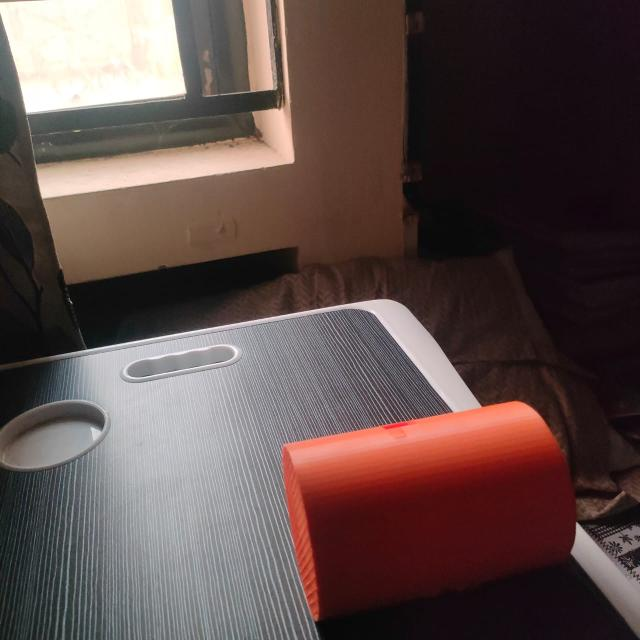Cylinder: (281, 398, 577, 622)
